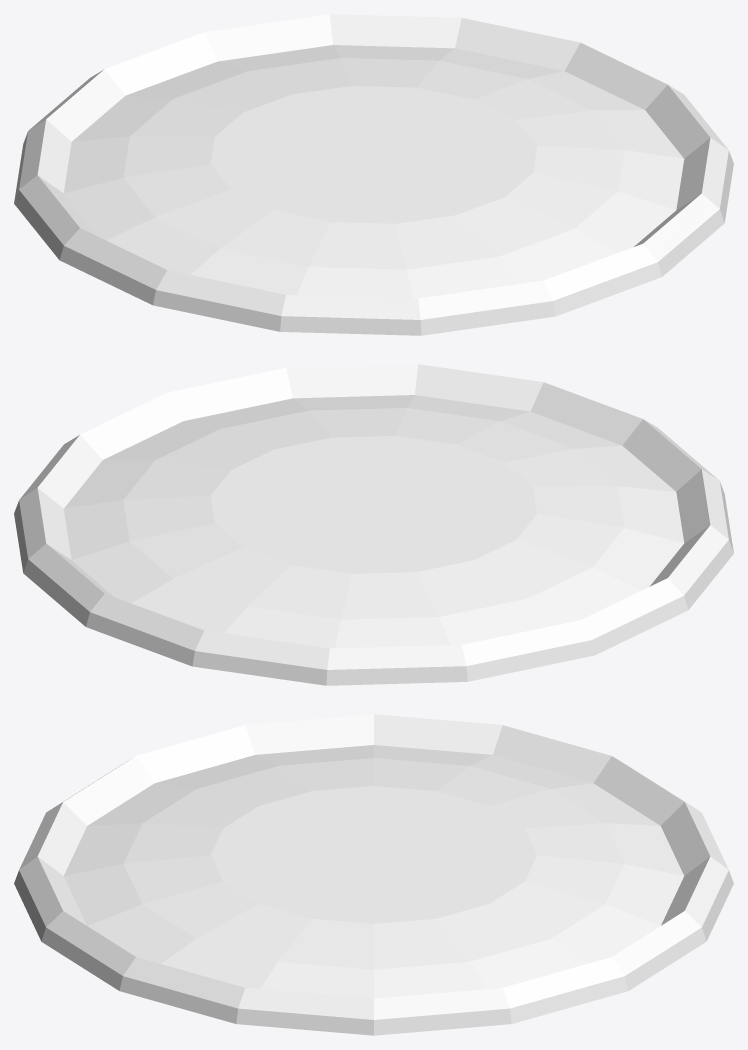
Rendered from Clock.fbx.
3 views of the same model, one above another, from view 1: azimuth 30°, elevation 25°; view 2: azimuth 150°, elevation 25°; view 3: azimuth 270°, elevation 25° (orthographic).
Visible parts, largest first — view 1: Clock; view 2: Clock; view 3: Clock.
Part boxes in pixels (x1,y1,x2,y2): Clock: (14,14,733,335); Clock: (14,364,733,685); Clock: (14,714,733,1035).
Size of the model in its own units: 49.94 by 2.18 by 49.94.
